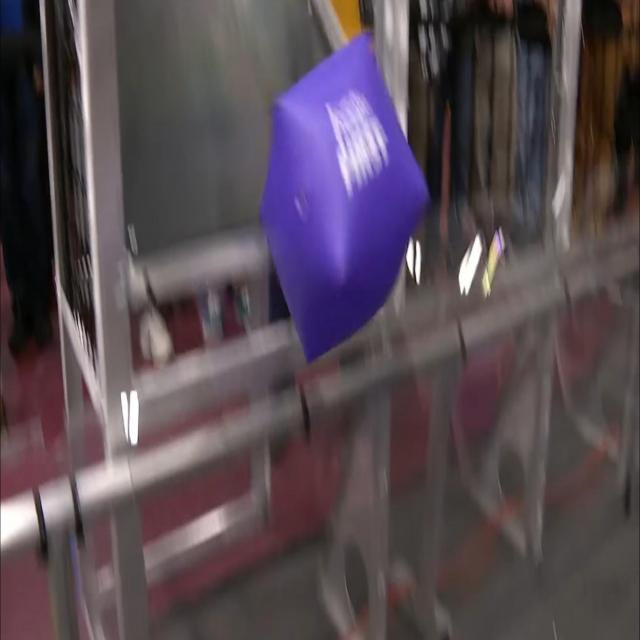frc_cone: (321, 0, 390, 54)
frc_cube: (262, 37, 430, 362)
